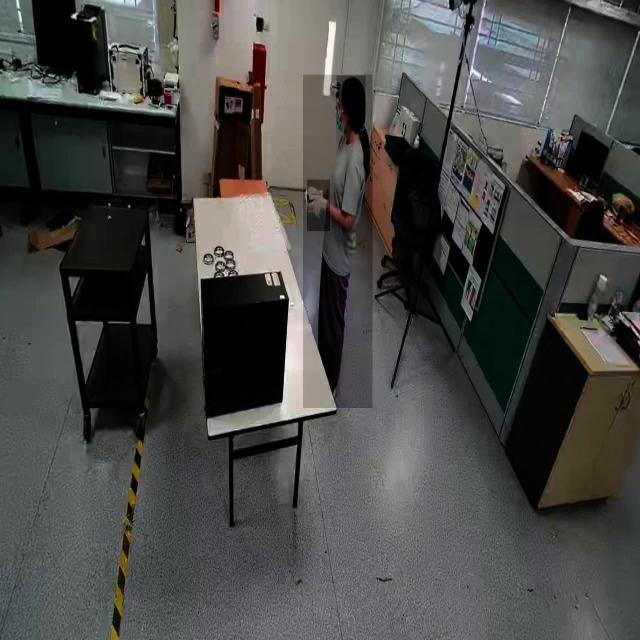face_mask: (336, 97, 350, 144)
hand_glove: (307, 180, 330, 231)
head_nohelmet: (336, 76, 366, 98)
person: (303, 75, 373, 409)
